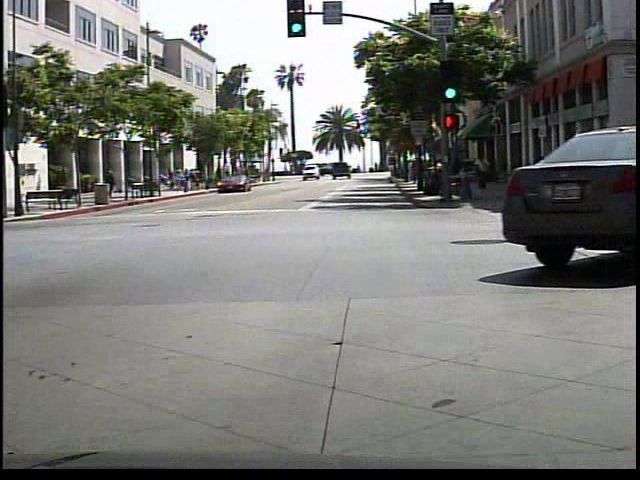person: (103, 162, 120, 200)
